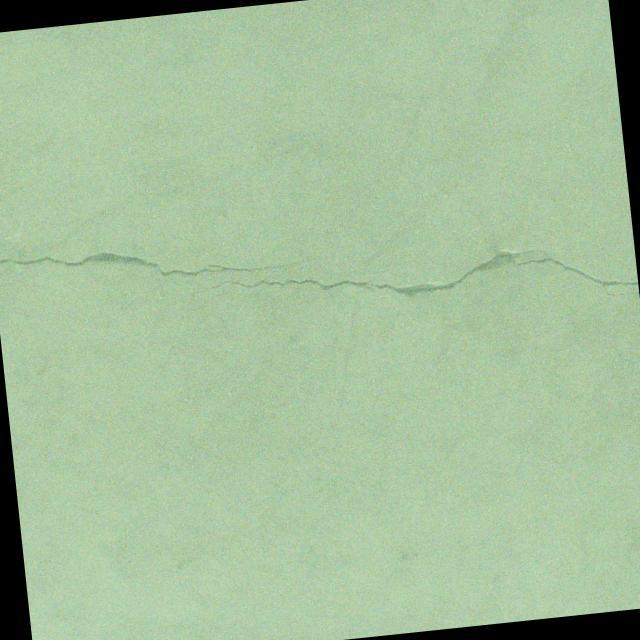crack: (168, 232, 639, 342), (0, 222, 341, 299), (618, 350, 640, 388)
